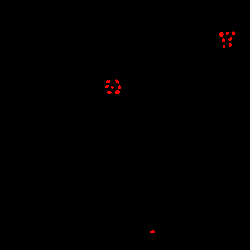Target: (219, 32, 224, 37), (115, 79, 119, 84), (115, 90, 120, 94), (228, 37, 232, 41), (107, 91, 112, 94), (150, 230, 155, 233), (232, 31, 235, 35), (222, 38, 225, 42), (229, 43, 232, 47), (106, 80, 110, 83), (105, 85, 109, 88), (118, 85, 121, 89), (226, 32, 229, 35), (111, 86, 114, 89), (223, 45, 225, 48)
